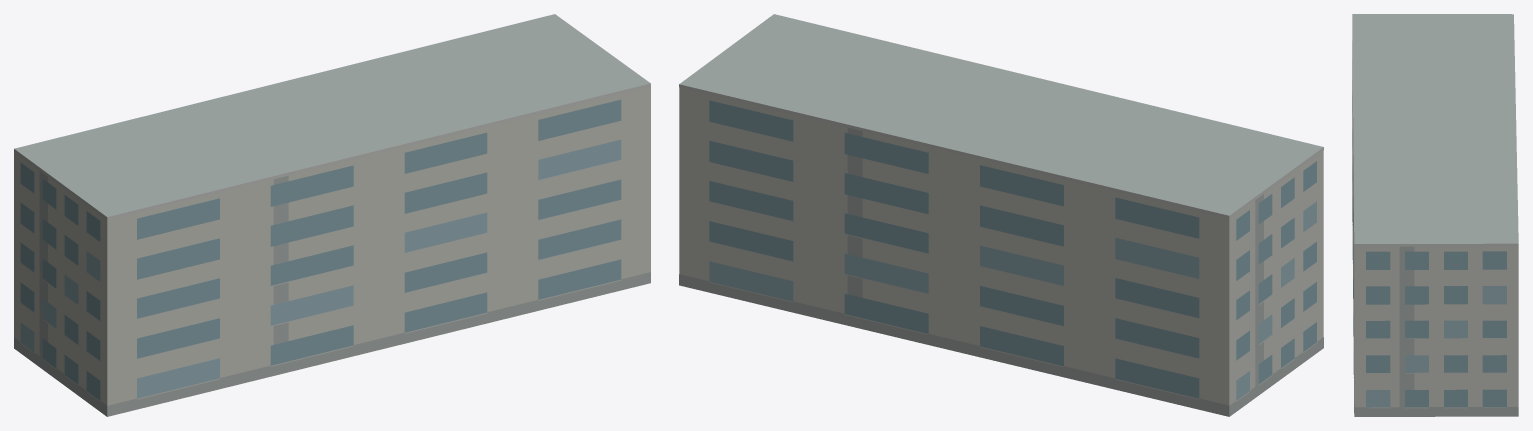
The model's file is survey-upis-32634723.glb.
3 renders of one model, left to right at view 1: azimuth 30°, elevation 25°; view 2: azimuth 150°, elevation 25°; view 3: azimuth 270°, elevation 25°, orthographic. The views are drawn at different scales.
Visible parts, largest first — view 1: survey-upis-32634723.tmp; view 2: survey-upis-32634723.tmp; view 3: survey-upis-32634723.tmp.
Boxes of the visible parts, bbox=[...] form: survey-upis-32634723.tmp: bbox=[14, 14, 650, 416]; survey-upis-32634723.tmp: bbox=[679, 14, 1323, 416]; survey-upis-32634723.tmp: bbox=[1352, 14, 1518, 416].
Size of the model in its own units: 43.55 by 15.25 by 13.32.
